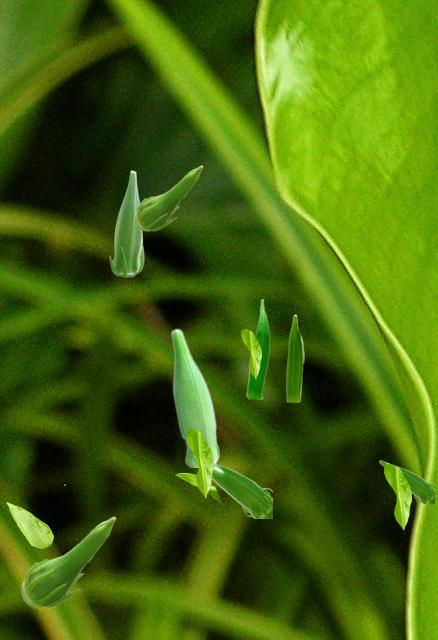okra: (21, 516, 115, 607), (170, 328, 218, 466), (134, 165, 202, 230), (109, 170, 143, 276), (212, 464, 271, 517), (246, 298, 269, 398), (379, 460, 433, 502), (286, 314, 303, 401)
